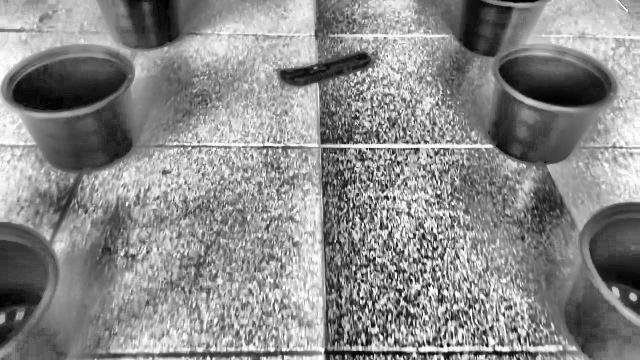pot: (0, 44, 138, 172), (489, 45, 618, 165)
